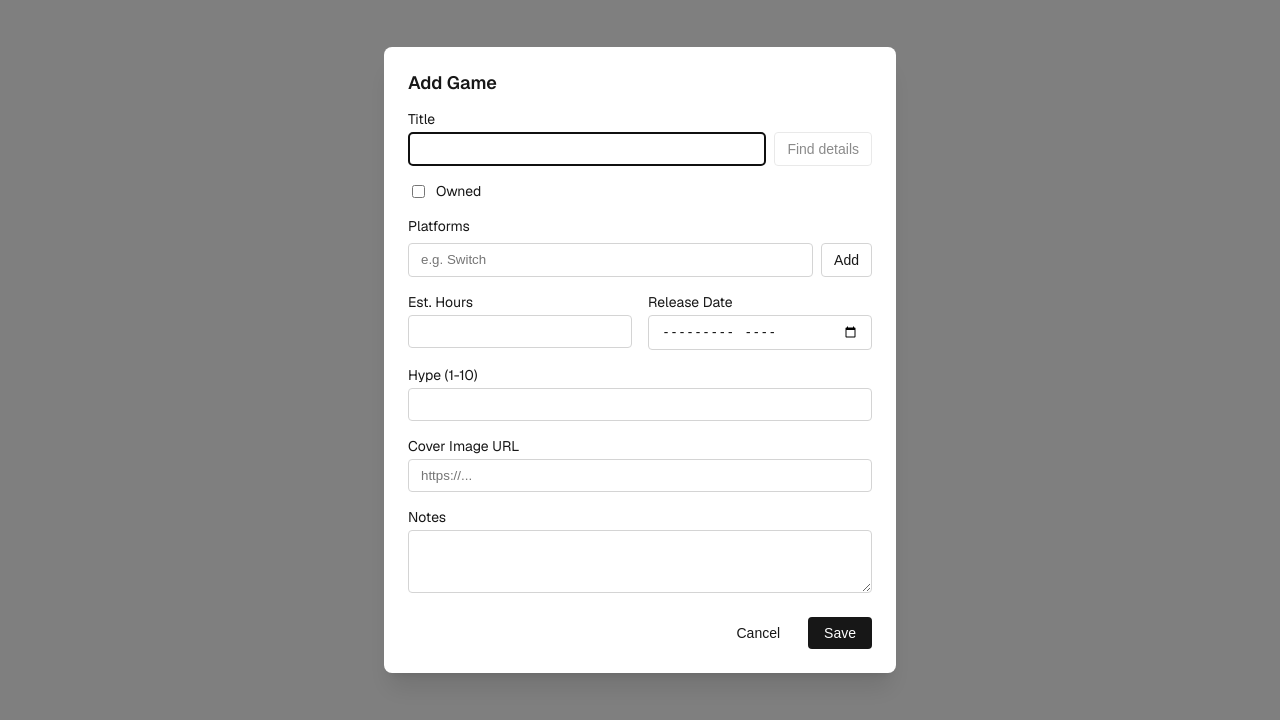
Test: GameFormModal › adds and removes platform tags
This screenshot has width=1280, height=720.
Type "PS5" into the field with placeholder "e.g. Switch" at (611, 260), box [408,243,813,277]
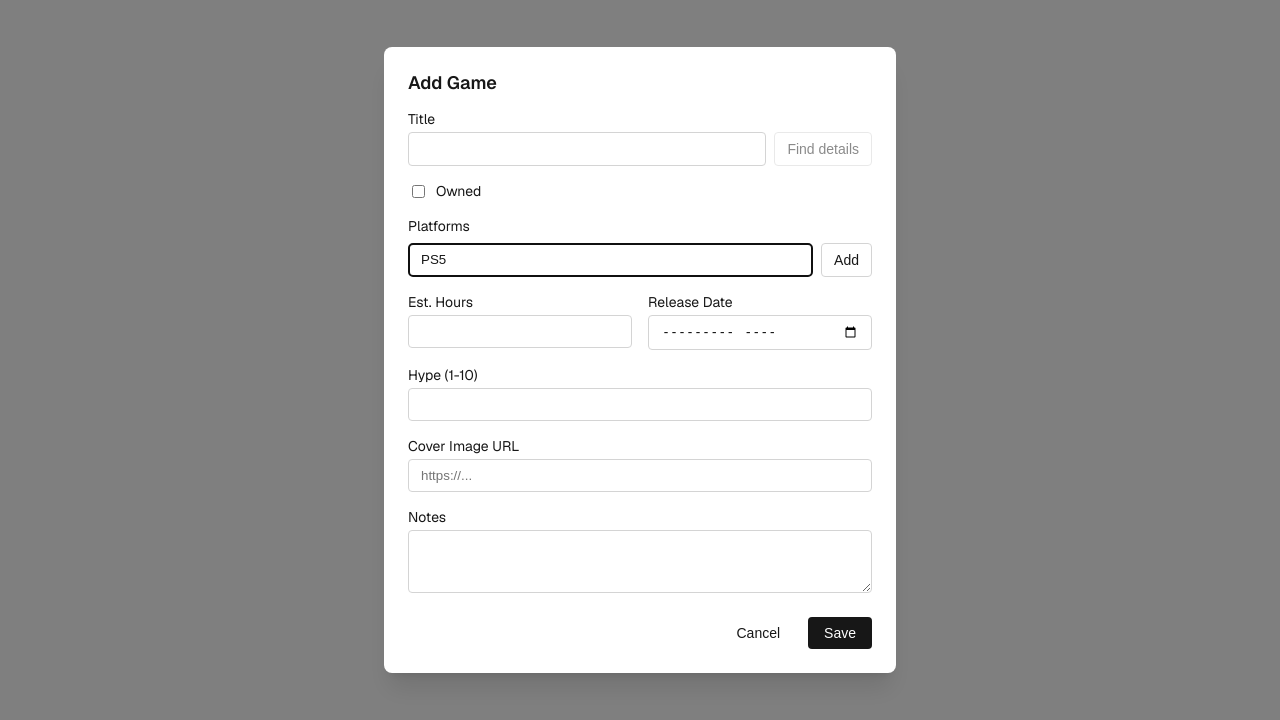
Click the button "Add" at (847, 260), box [821,243,872,277]
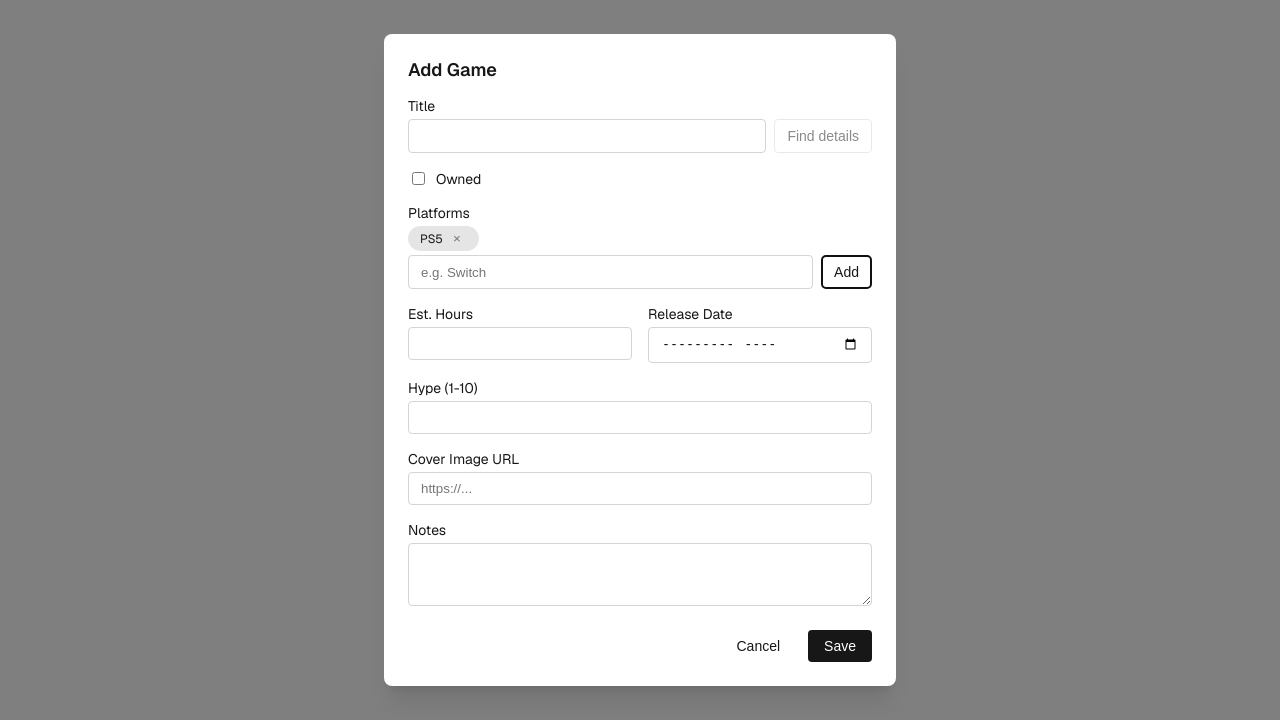
expect the text "PS5" is shown: met, box [420,231,443,247]
Click the button named "Remove PS5" at (457, 239), box [447,230,467,247]
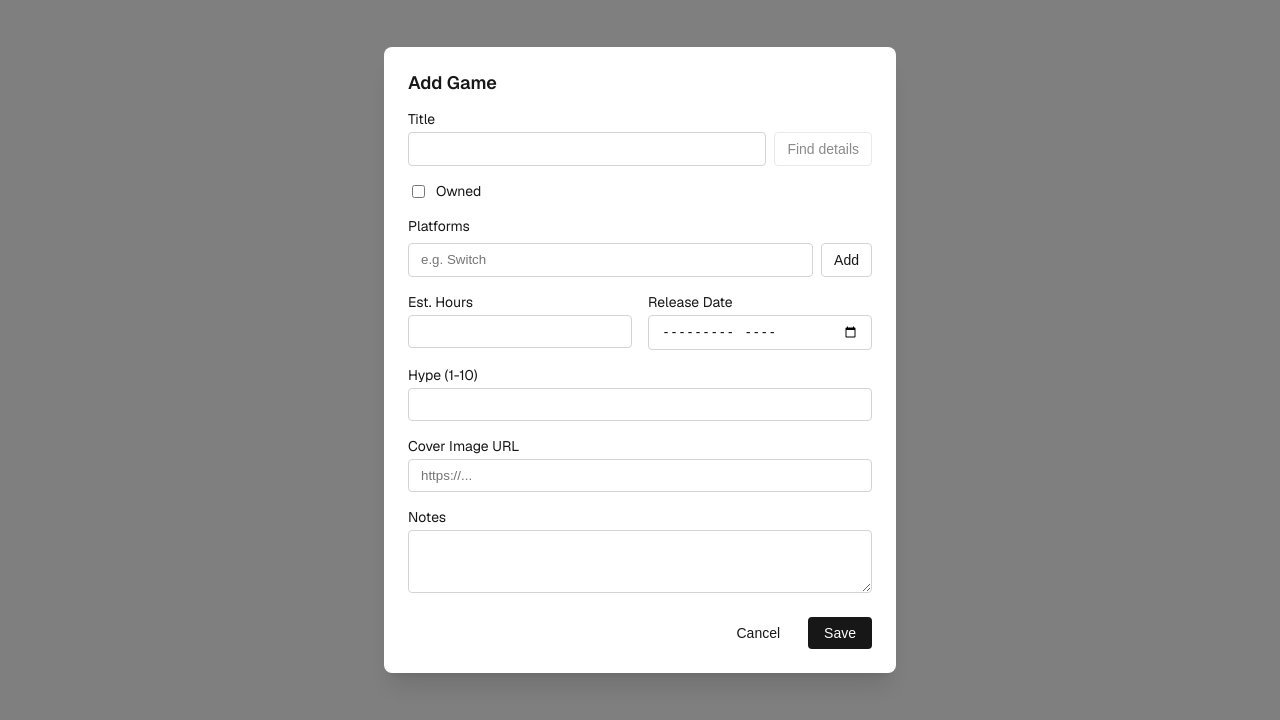
expect the text "PS5" is gone: met
